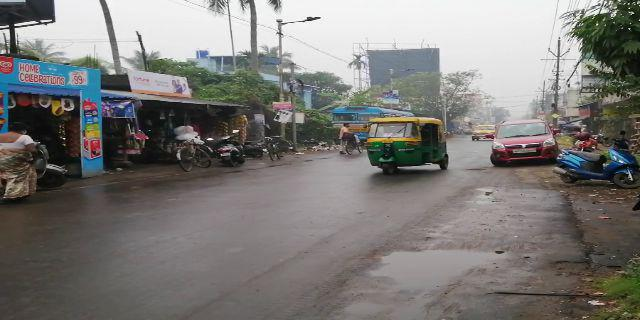Autorickshaw: (366, 120, 449, 171)
Car: (493, 118, 558, 159)
Motorbike: (565, 151, 634, 185)
